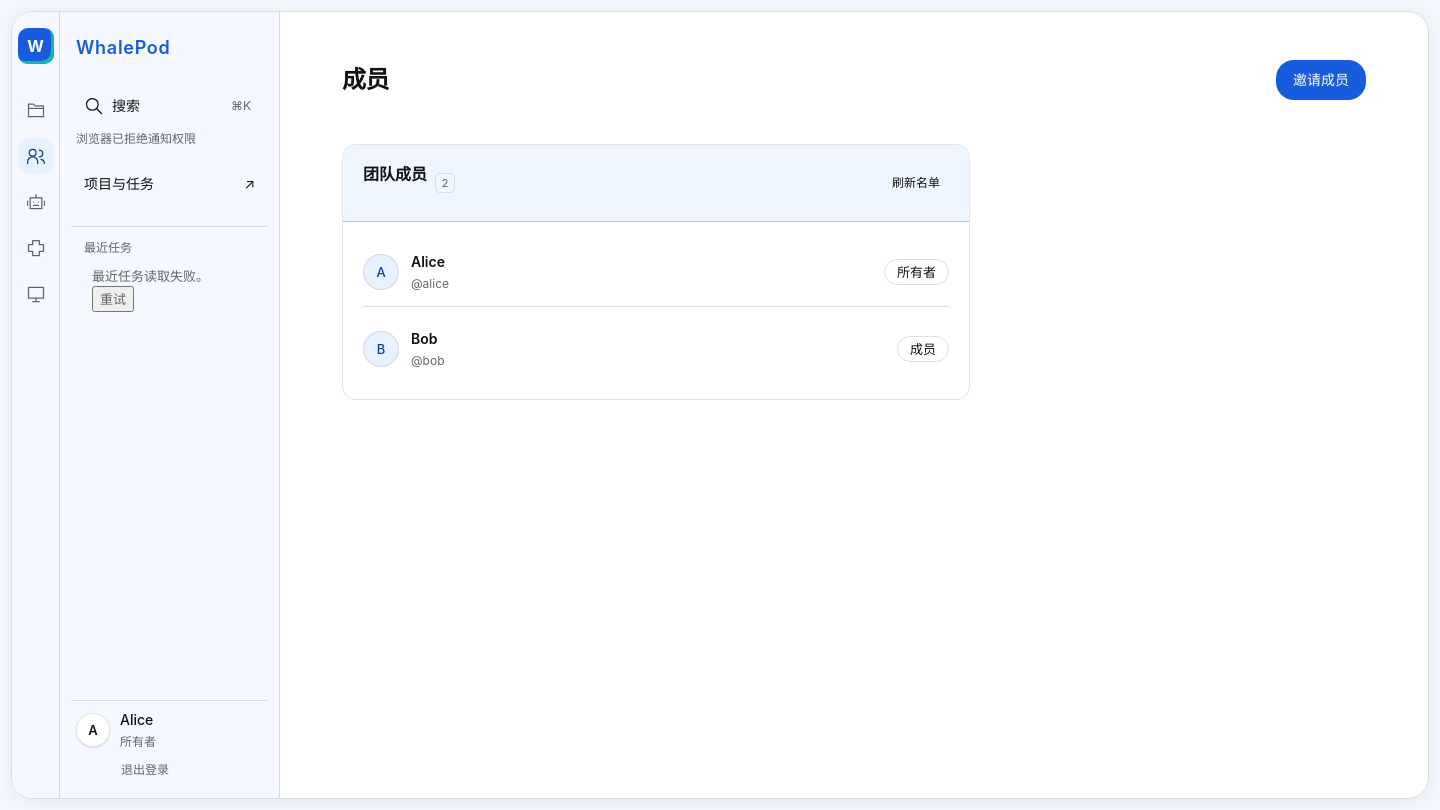
Test: members-page › 所有者选角色生成邀请：链接可见、可一键复制、有效期显示
Click the button "邀请成员" at (1321, 80), box [1276,60,1366,100]
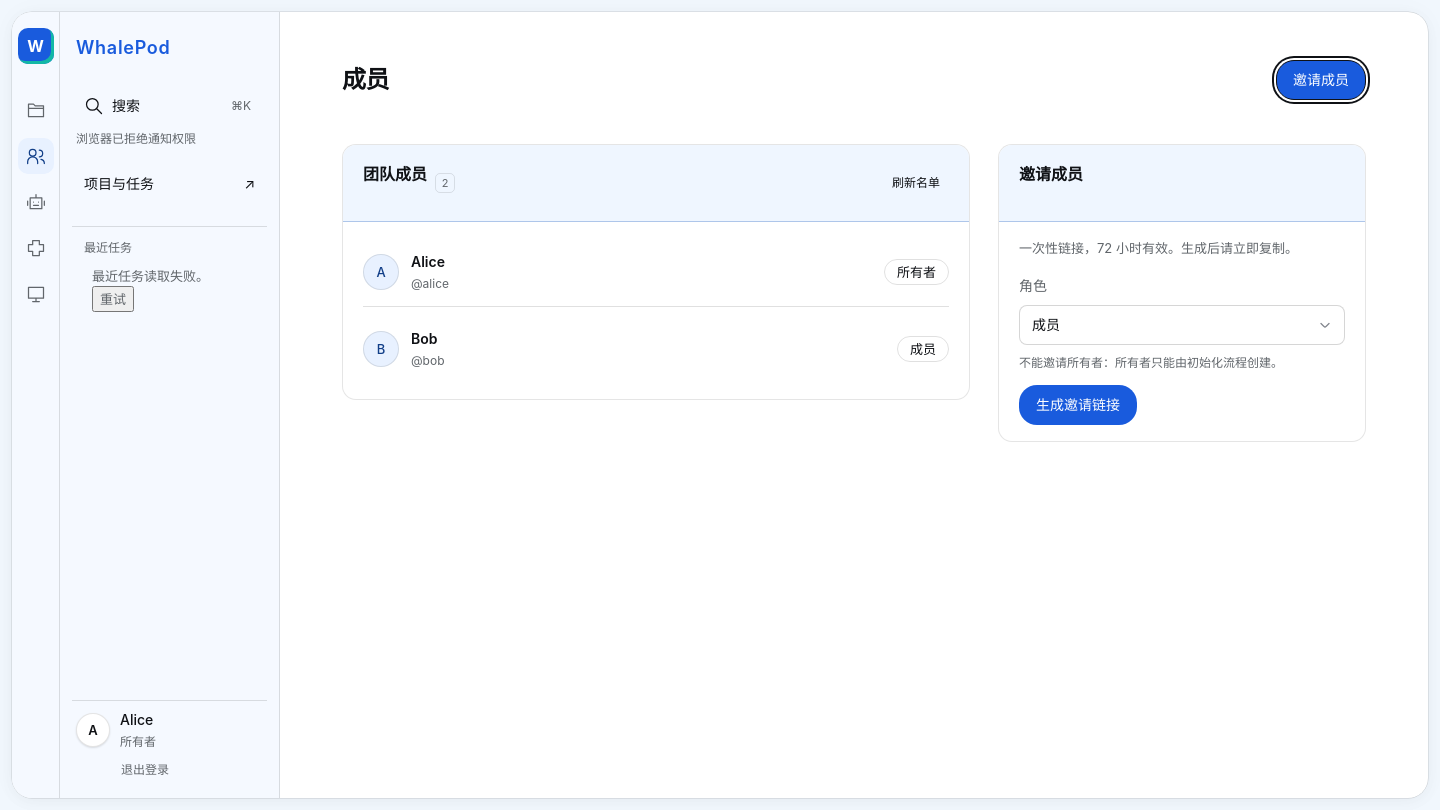
Click the button named "角色" at (1046, 325), box [1019,305,1345,345]
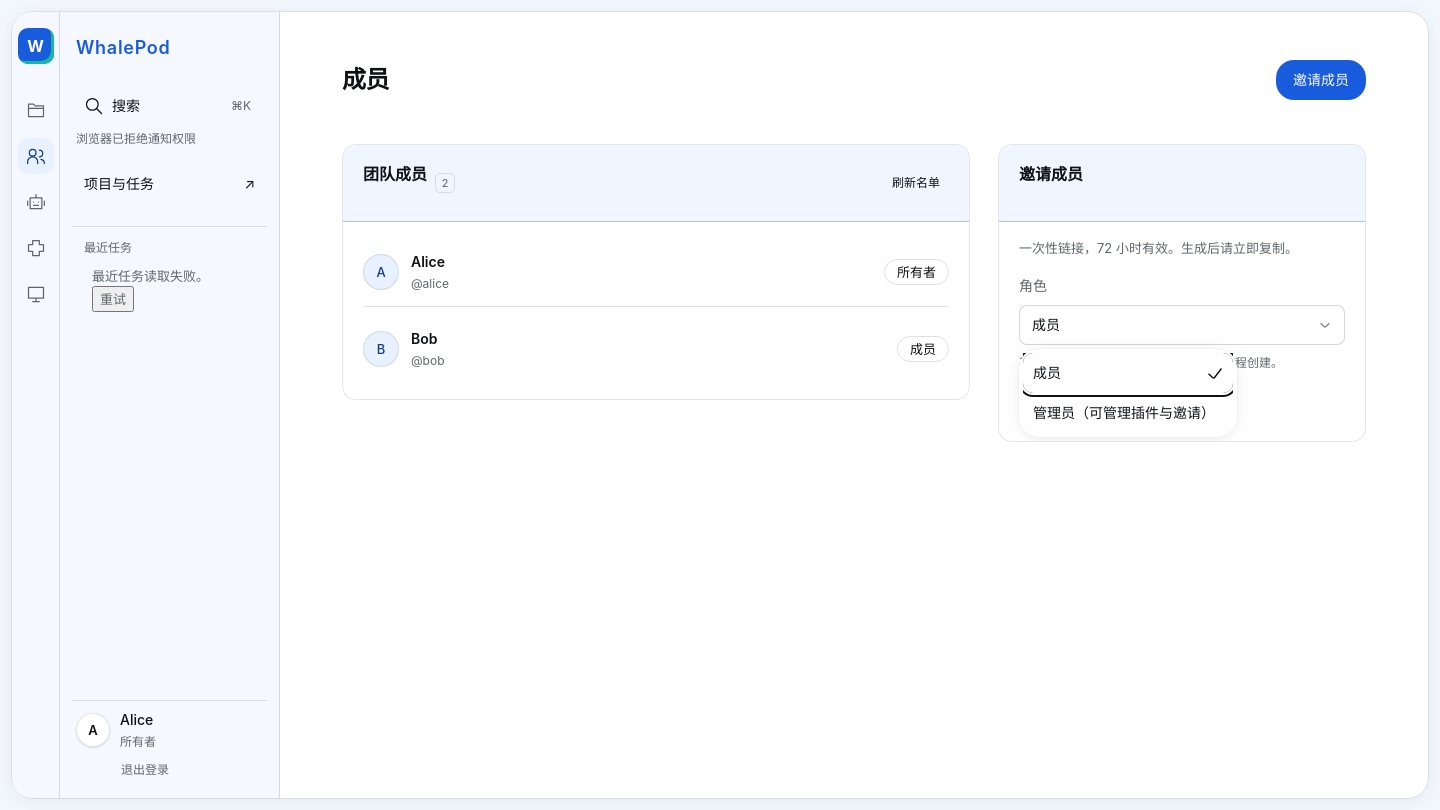
Click the menu item "管理员（可管理插件与邀请）" at (1128, 413), box [1023,393,1233,433]
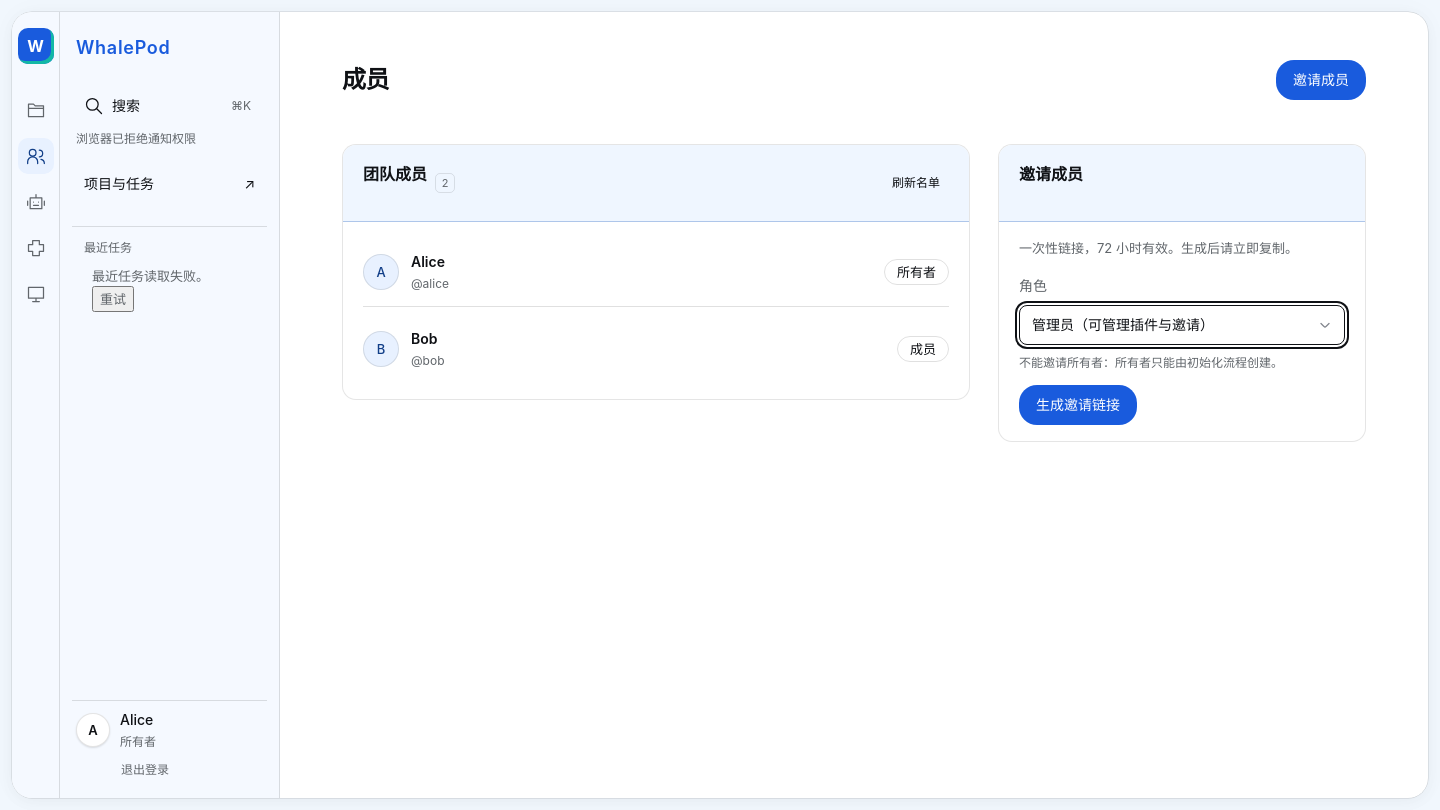
Click the button "生成邀请链接" at (1078, 405), box [1019,385,1137,425]
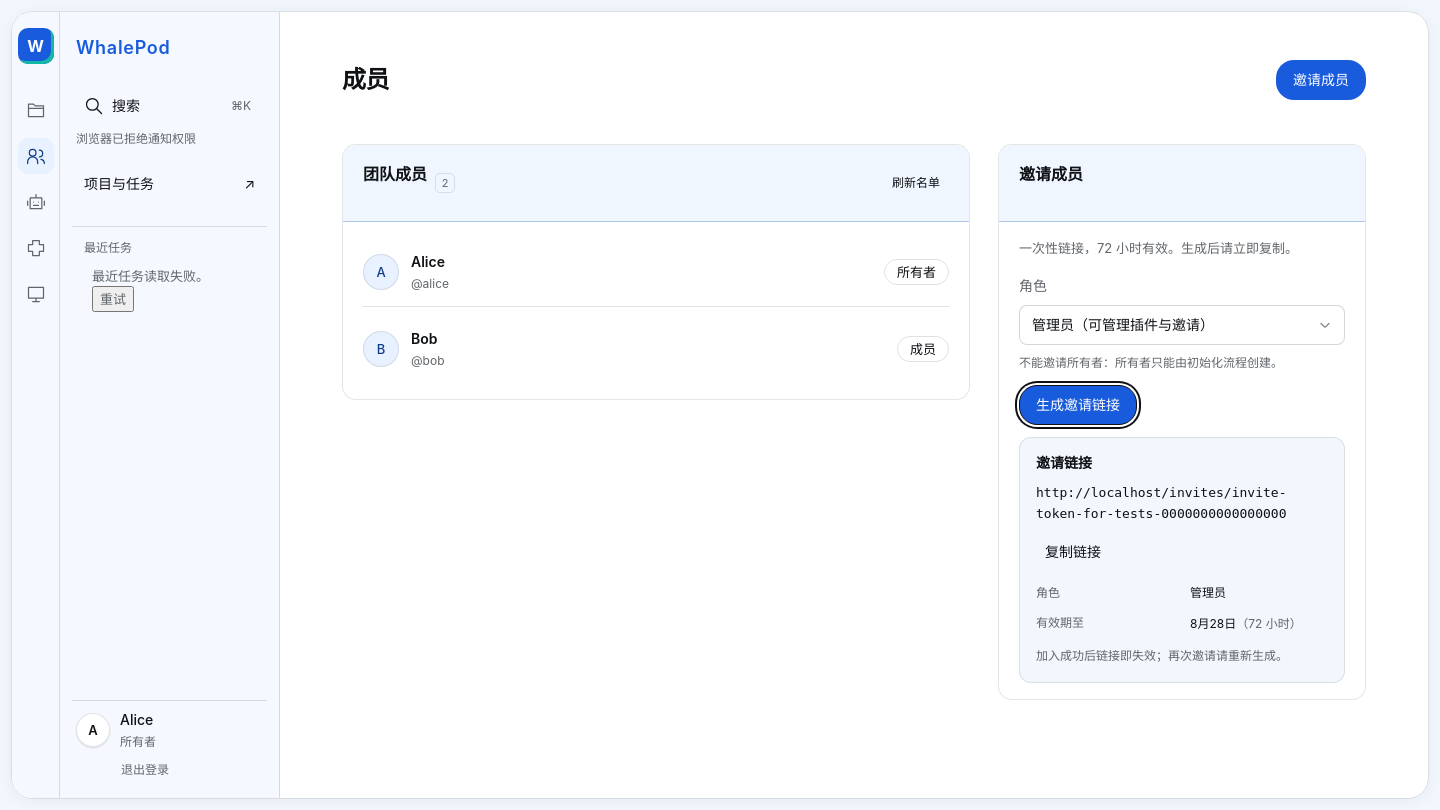
Click the button with aria-label "复制管理员邀请链接" at (1073, 552), box [1036,532,1110,572]
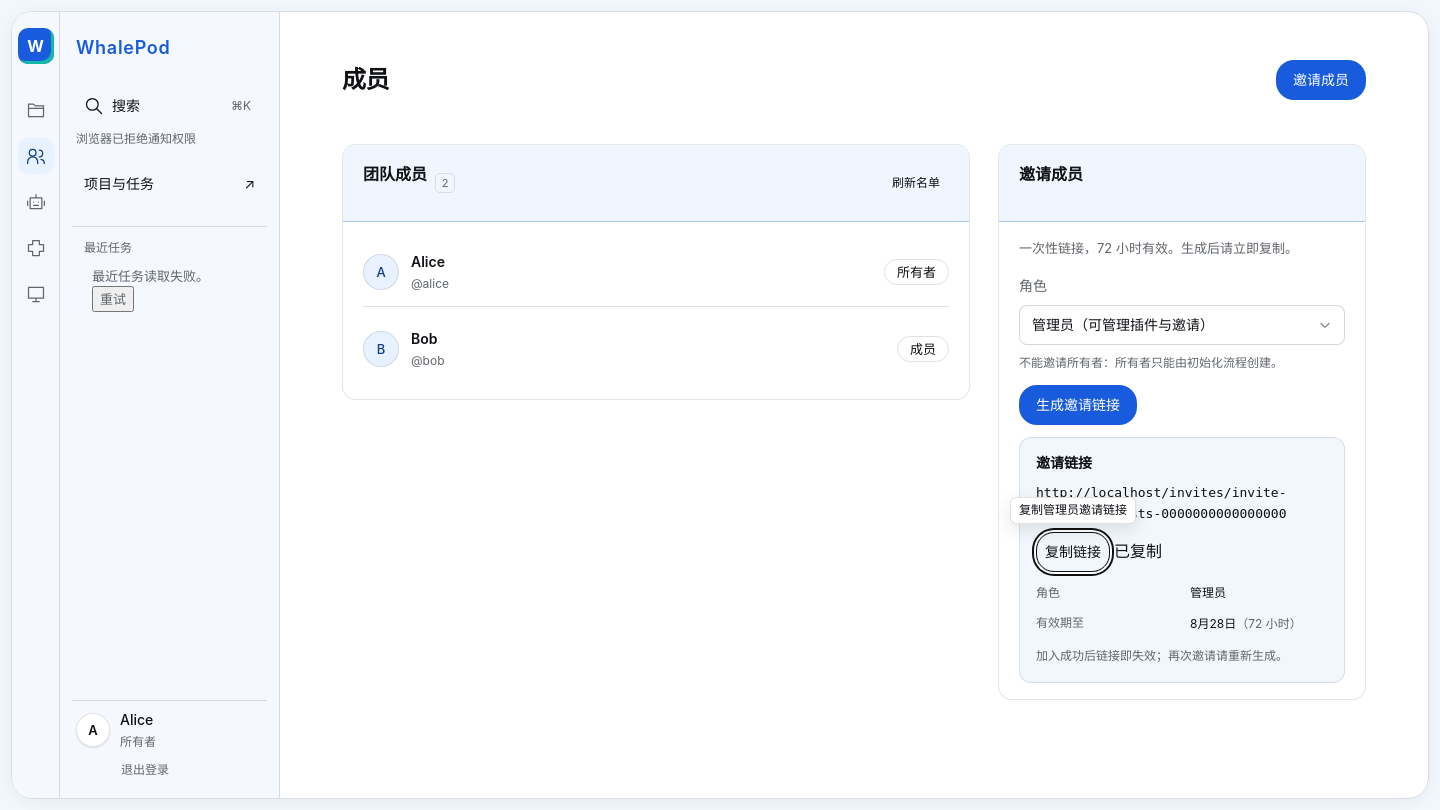
Expected: the text "有效期至" is shown, [1036,615,1084,630]
Expected: the text "（72 小时）" is shown, [1236,616,1302,631]
Expected: the text "已复制" is shown, [1114,539,1162,564]
